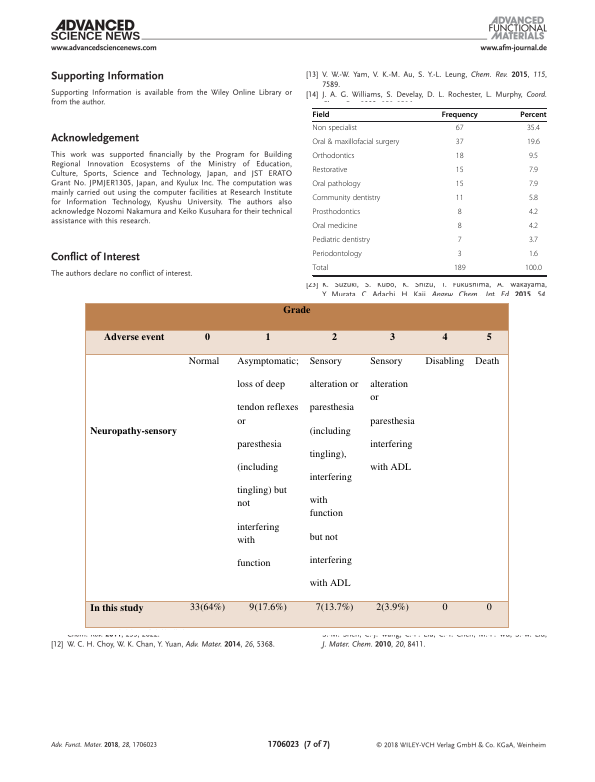bordered: (84, 302, 508, 627)
borderless: (311, 107, 546, 275)
cell: (236, 354, 300, 569), (309, 354, 359, 589), (369, 354, 416, 473), (89, 423, 178, 437), (312, 138, 400, 148), (103, 329, 165, 343), (89, 600, 145, 613), (312, 194, 381, 204), (312, 236, 371, 246), (425, 354, 465, 367), (248, 600, 288, 613), (312, 250, 363, 260), (315, 600, 354, 613), (312, 180, 361, 190), (312, 208, 361, 218), (189, 600, 226, 613), (312, 124, 358, 134), (312, 222, 358, 232), (375, 600, 410, 613), (312, 152, 355, 162), (188, 354, 220, 367), (282, 302, 311, 316), (312, 166, 348, 176), (441, 111, 479, 120), (474, 354, 500, 367), (519, 111, 547, 120), (524, 264, 543, 274), (312, 264, 329, 274), (312, 111, 330, 120), (526, 124, 541, 134), (526, 138, 541, 148), (453, 264, 466, 274), (528, 152, 539, 162), (528, 166, 539, 176), (528, 180, 539, 190), (528, 194, 539, 204), (528, 208, 539, 218), (528, 222, 539, 232), (528, 236, 539, 246), (528, 250, 539, 260), (204, 329, 211, 343), (265, 329, 272, 343), (331, 329, 338, 343), (389, 329, 396, 343), (441, 329, 448, 343), (486, 329, 493, 343), (441, 600, 448, 613), (486, 600, 493, 613), (455, 124, 464, 134), (455, 138, 464, 148), (455, 152, 464, 162), (455, 166, 464, 176), (455, 180, 464, 190), (455, 194, 464, 204), (457, 208, 463, 218), (457, 222, 463, 232), (457, 236, 463, 246), (457, 250, 463, 260)
